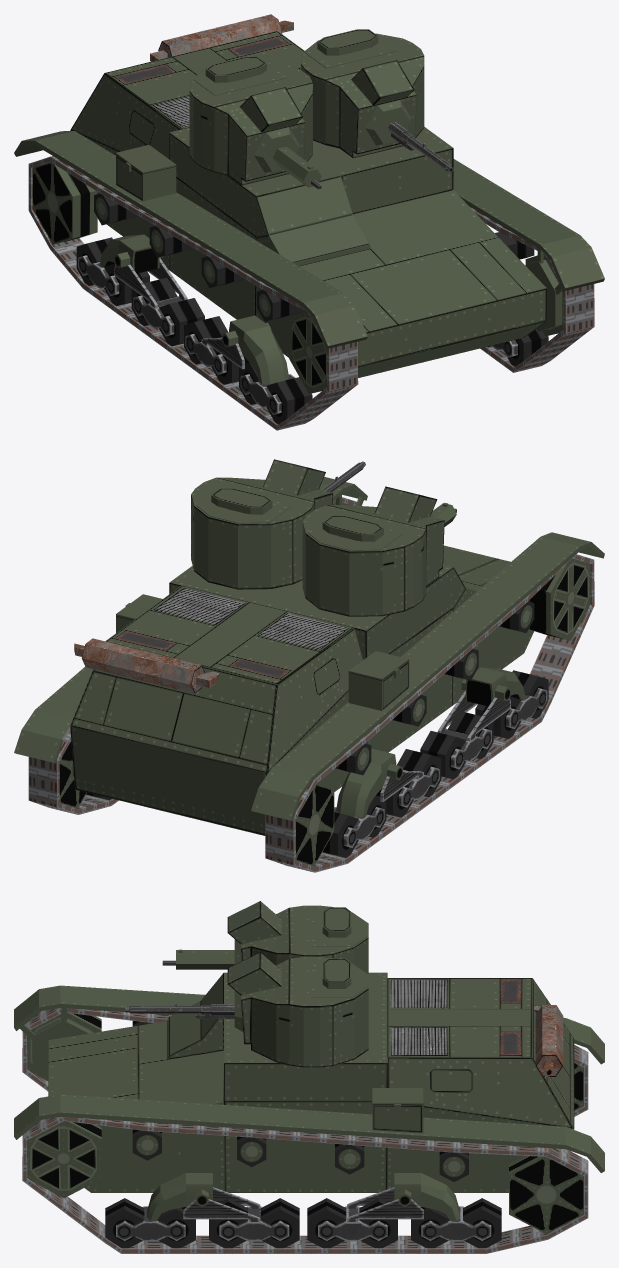
3 views of the same model, one above another, from view 1: azimuth 30°, elevation 25°; view 2: azimuth 150°, elevation 25°; view 3: azimuth 270°, elevation 25° (orthographic). The views are drawn at different scales.
Parts seen in each view (by area): view 1: Light_7TP_Hull, Light_7TP_DW_Turret_R, Light_7TP_DW_Turret_L, Light_7TP_Tracks_R, Light_7TP_Idler_R, Light_7TP_Tracks_L, Light_7TP_Boogie_Arm_1_R, Light_7TP_Boogie_Arm_2_R, Light_7TP_Sprocket_R, Light_7TP_DW_Turret_Hatch_R, Light_7TP_DW_Turret_Hatch_L, Light_7TP_Wheel_1_R (+16 smaller); view 2: Light_7TP_Hull, Light_7TP_DW_Turret_R, Light_7TP_DW_Turret_L, Light_7TP_Tracks_R, Light_7TP_Sprocket_R, Light_7TP_Boogie_Arm_2_R, Light_7TP_Boogie_Arm_1_R, Light_7TP_Idler_R, Light_7TP_Tracks_L, Light_7TP_DW_Turret_Hatch_R, Light_7TP_DW_Turret_Hatch_L, Light_7TP_Wheel_4_R (+14 smaller); view 3: Light_7TP_Hull, Light_7TP_Tracks_L, Light_7TP_DW_Turret_L, Light_7TP_DW_Turret_R, Light_7TP_Idler_L, Light_7TP_Sprocket_L, Light_7TP_Boogie_Arm_1_L, Light_7TP_Boogie_Arm_2_L, Light_7TP_Tracks_R, Light_7TP_DW_Turret_Hatch_R, Light_7TP_DW_Turret_Hatch_L, Light_7TP_Spring_Arm_2_L (+18 smaller).
Part boxes in pixels (x1=…): Light_7TP_Hull: x1=14, y1=14, x2=604, y2=377; Light_7TP_DW_Turret_R: x1=189, y1=61, x2=312, y2=185; Light_7TP_DW_Turret_L: x1=301, y1=33, x2=424, y2=158; Light_7TP_Tracks_R: x1=28, y1=156, x2=358, y2=430; Light_7TP_Idler_R: x1=32, y1=162, x2=97, y2=244; Light_7TP_Tracks_L: x1=470, y1=207, x2=594, y2=372; Light_7TP_Boogie_Arm_1_R: x1=201, y1=315, x2=288, y2=384; Light_7TP_Boogie_Arm_2_R: x1=99, y1=234, x2=187, y2=308; Light_7TP_Sprocket_R: x1=289, y1=311, x2=326, y2=393; Light_7TP_DW_Turret_Hatch_R: x1=193, y1=56, x2=286, y2=95; Light_7TP_DW_Turret_Hatch_L: x1=304, y1=29, x2=398, y2=68; Light_7TP_Wheel_1_R: x1=266, y1=377, x2=312, y2=424; Light_7TP_Hull: x1=14, y1=476, x2=604, y2=835; Light_7TP_DW_Turret_R: x1=302, y1=486, x2=444, y2=616; Light_7TP_DW_Turret_L: x1=191, y1=459, x2=333, y2=589; Light_7TP_Tracks_R: x1=265, y1=554, x2=594, y2=872; Light_7TP_Sprocket_R: x1=528, y1=558, x2=590, y2=640; Light_7TP_Boogie_Arm_2_R: x1=336, y1=748, x2=423, y2=817; Light_7TP_Boogie_Arm_1_R: x1=438, y1=667, x2=525, y2=741; Light_7TP_Idler_R: x1=296, y1=784, x2=334, y2=866; Light_7TP_Tracks_L: x1=28, y1=497, x2=356, y2=814; Light_7TP_DW_Turret_Hatch_R: x1=308, y1=515, x2=402, y2=550; Light_7TP_DW_Turret_Hatch_L: x1=196, y1=488, x2=291, y2=523; Light_7TP_Wheel_4_R: x1=420, y1=731, x2=465, y2=779; Light_7TP_Hull: x1=14, y1=972, x2=604, y2=1206; Light_7TP_Tracks_L: x1=22, y1=1117, x2=588, y2=1253; Light_7TP_DW_Turret_L: x1=227, y1=952, x2=368, y2=1067; Light_7TP_DW_Turret_R: x1=227, y1=901, x2=368, y2=974; Light_7TP_Idler_L: x1=509, y1=1156, x2=583, y2=1233; Light_7TP_Sprocket_L: x1=27, y1=1121, x2=101, y2=1198; Light_7TP_Boogie_Arm_1_L: x1=147, y1=1173, x2=260, y2=1221; Light_7TP_Boogie_Arm_2_L: x1=347, y1=1173, x2=459, y2=1221; Light_7TP_Tracks_R: x1=22, y1=1008, x2=588, y2=1116; Light_7TP_DW_Turret_Hatch_R: x1=310, y1=907, x2=367, y2=946; Light_7TP_DW_Turret_Hatch_L: x1=310, y1=958, x2=367, y2=997; Light_7TP_Spring_Arm_2_L: x1=219, y1=1206, x2=289, y2=1241.
Bounding box in the file's own units: 2.45 × 2.23 × 4.72.
Materials: 4 (4 with a texture image).
